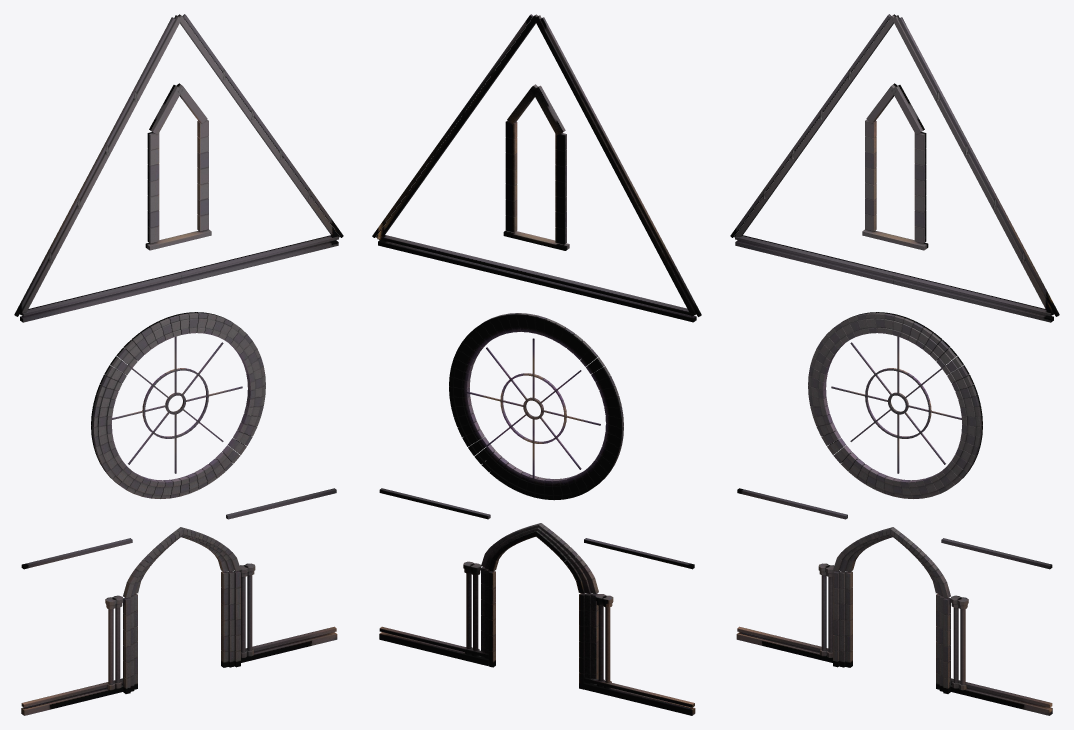
File: entrance_carved_trim.glb
3 renders of one model, left to right at view 1: azimuth 30°, elevation 25°; view 2: azimuth 150°, elevation 25°; view 3: azimuth 330°, elevation 25°, orthographic.
Parts seen in each view (by area): view 1: entrance_carved_trim.001; view 2: entrance_carved_trim.001; view 3: entrance_carved_trim.001.
Part boxes in pixels (x1=…): entrance_carved_trim.001: x1=14, y1=14, x2=343, y2=715; entrance_carved_trim.001: x1=372, y1=14, x2=701, y2=715; entrance_carved_trim.001: x1=730, y1=14, x2=1059, y2=715.
Size of the model in its own units: 14.56 by 28.05 by 0.64.
Materials: 1 (1 with a texture image).
